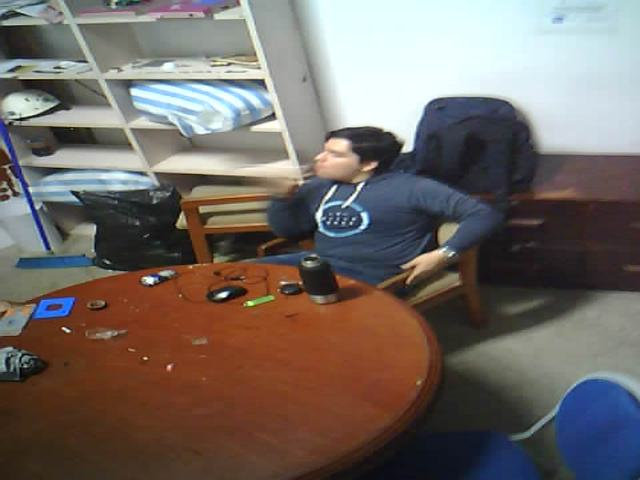person: (242, 95, 530, 330)
